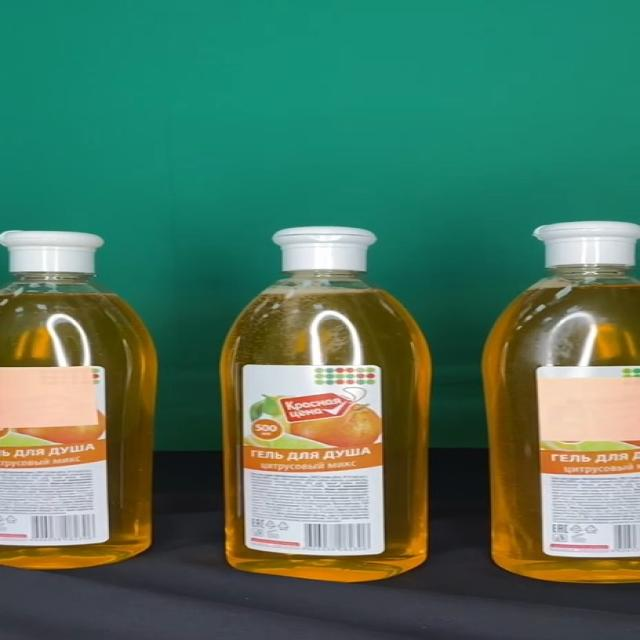Bottle: (218, 227, 432, 582), (483, 222, 640, 582), (0, 231, 159, 569)
Cap: (534, 222, 640, 266), (272, 226, 376, 270), (0, 230, 103, 274)
